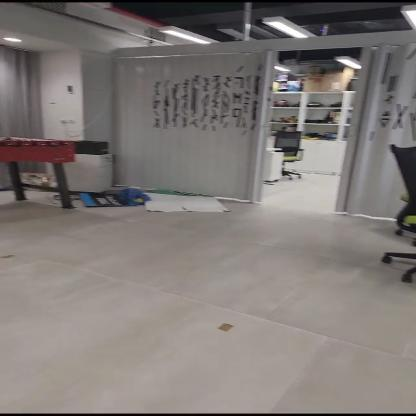open: (254, 47, 357, 208)
